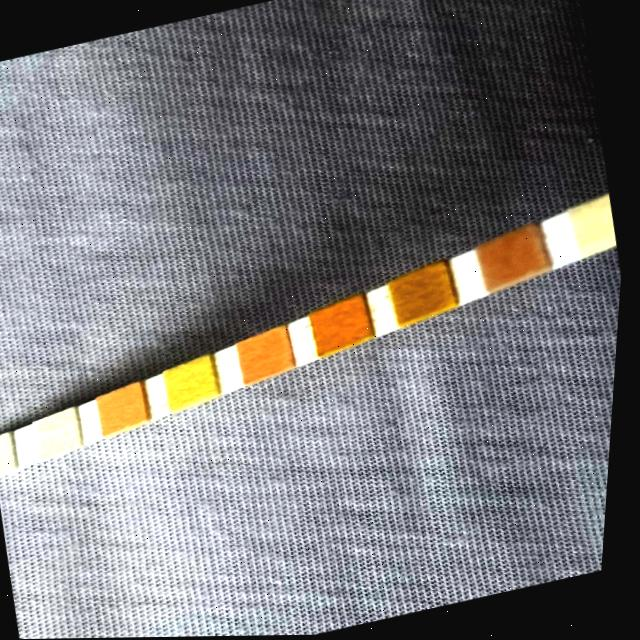Bilirubin: (579, 200, 621, 249)
Blood: (315, 303, 374, 349)
Ketone: (482, 232, 548, 286)
Leukocytes: (0, 438, 22, 474)
Nitrite: (37, 412, 86, 455)
Protein: (167, 362, 219, 404)
SpGravity: (393, 271, 456, 320)
Urobilinogen: (99, 387, 152, 429)
pH: (240, 333, 296, 378)
